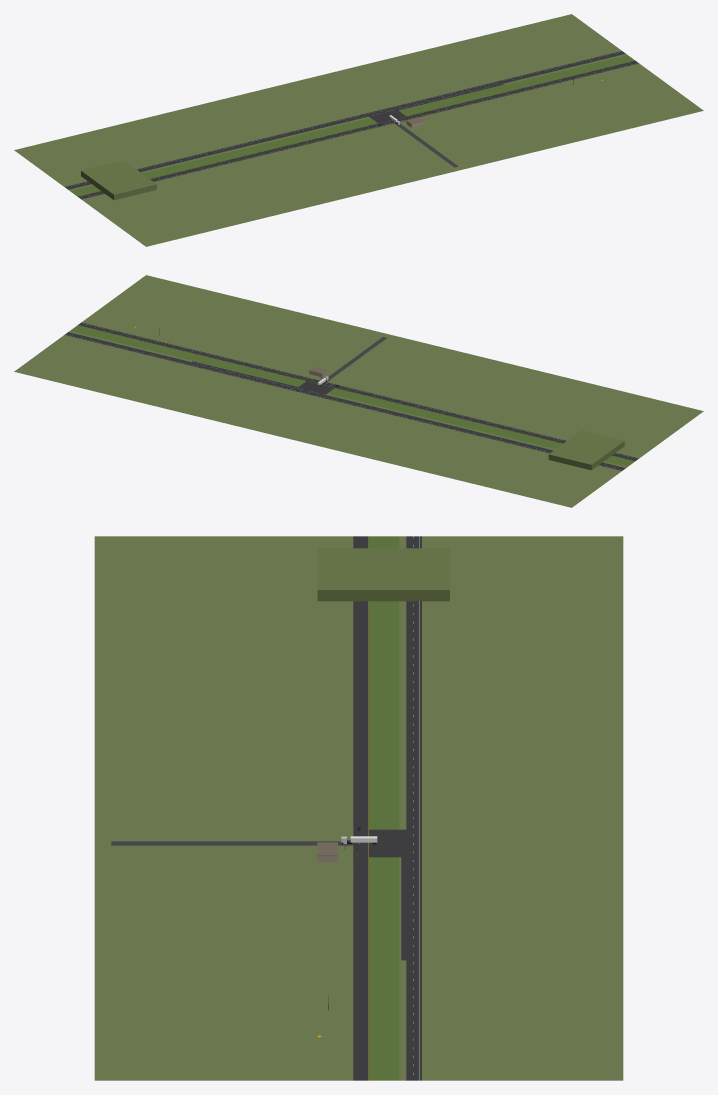
File: world_v2_t9.9.glb
3 renders of one model, top to bottom at view 1: azimuth 30°, elevation 25°; view 2: azimuth 150°, elevation 25°; view 3: azimuth 270°, elevation 25°, orthographic. The views are drawn at different scales.
Parts seen in each view (by area): view 1: ground, road_crossover, road_wb, road_eb, occ_crest; view 2: ground, road_crossover, road_wb, road_eb, occ_crest; view 3: ground, road_crossover, road_wb, road_eb, occ_crest, road_ne140.
Part boxes in pixels (x1,y1,x2,y2): ground: (14, 14, 703, 246); road_crossover: (70, 55, 634, 196); road_wb: (65, 51, 625, 189); road_eb: (78, 60, 638, 199); occ_crest: (81, 160, 156, 200); ground: (14, 275, 703, 507); road_crossover: (70, 325, 634, 466); road_wb: (64, 332, 625, 470); road_eb: (78, 322, 638, 461); occ_crest: (548, 430, 624, 470); ground: (94, 536, 623, 1080); road_crossover: (369, 536, 401, 1080); road_wb: (401, 536, 421, 1080); road_eb: (353, 536, 368, 1080); occ_crest: (317, 548, 449, 601); road_ne140: (111, 841, 353, 845).
Bounding box in the file's own units: 780 × 10 × 320.
